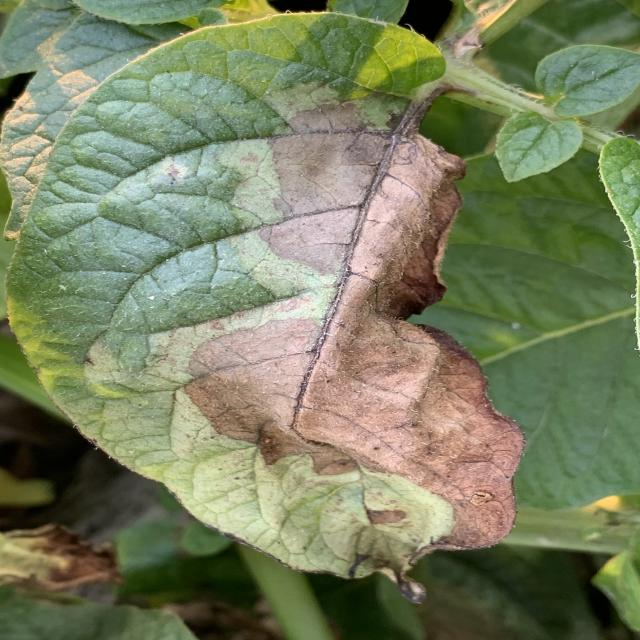lateblight: (182, 128, 523, 562), (263, 81, 408, 132)
